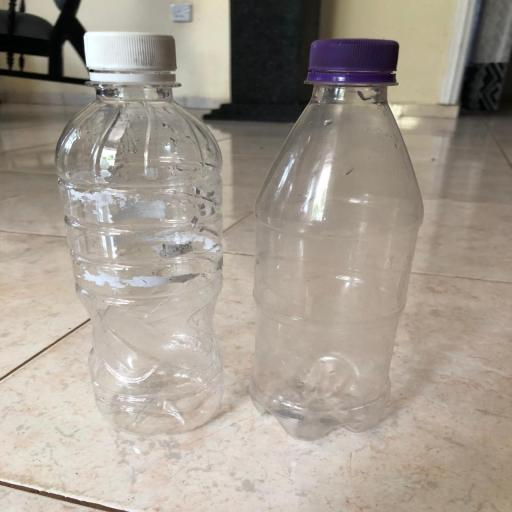waste: (56, 25, 237, 439), (256, 25, 428, 446)
